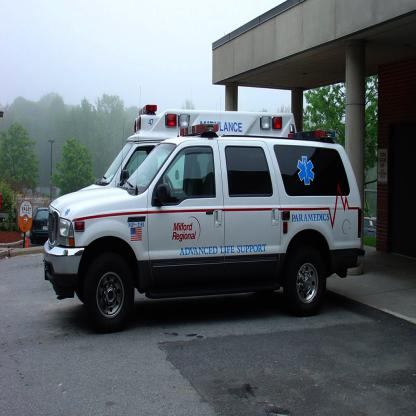Ambulance: (52, 121, 365, 328), (79, 103, 297, 187)
Car: (45, 122, 365, 317), (29, 205, 50, 242), (364, 218, 380, 239)
